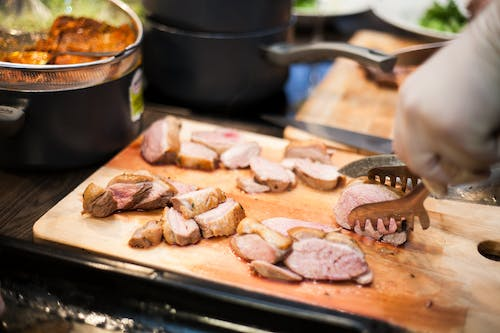knife: (334, 153, 500, 209)
